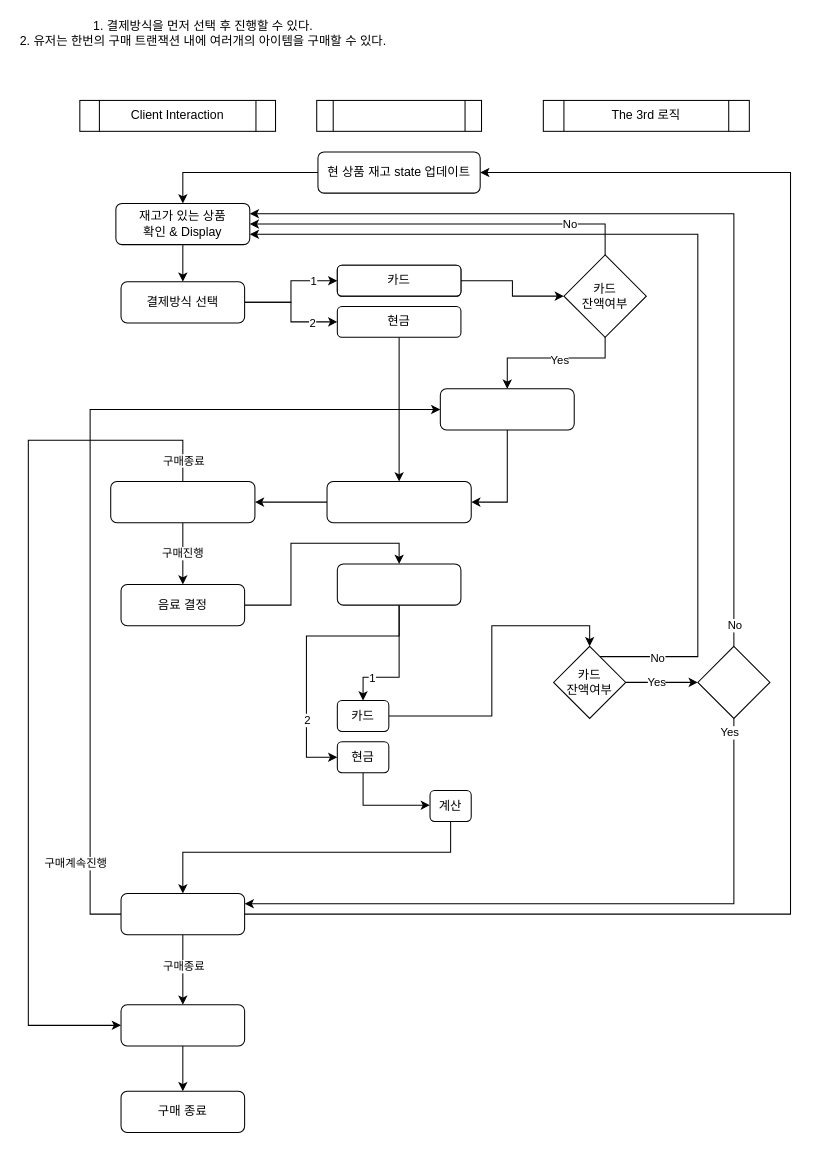
Some shapes in this 817 by 1151 pixel diagram are drawn without their labels. The shapes that lost their labels are listed below. From the top down, each one's centre as x and y in pixels, then its label:
the point at 399,115: 상세 로직
the point at 506,409: 재고가 있는 상품 확인
the point at 182,501: 구매할 수 있는 상품 확인 & Display
the point at 398,501: 잔액으로 살 수 있는 상품
the point at 398,584: 결제
the point at 733,681: 카드 결제
the point at 182,913: 음료 return
the point at 182,1025: 거스름돈 반환 및 구매취소
